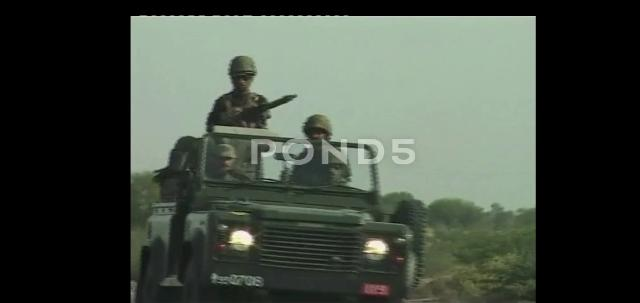plate: (210, 271, 264, 287)
